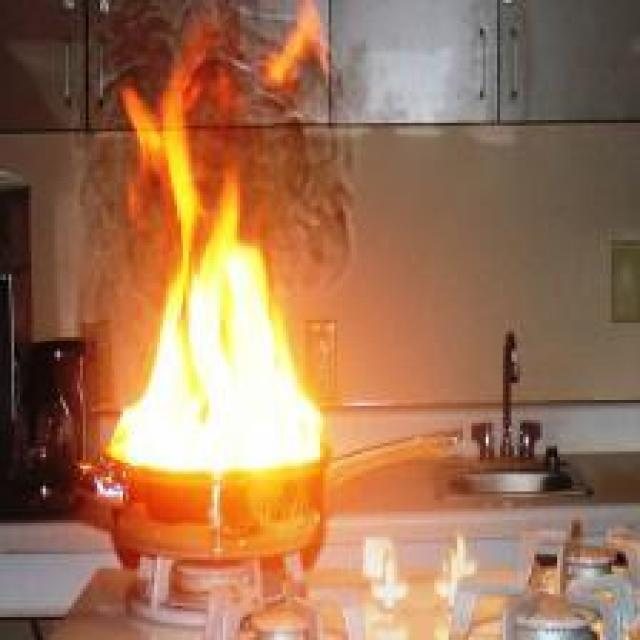Fire: (102, 9, 326, 473)
